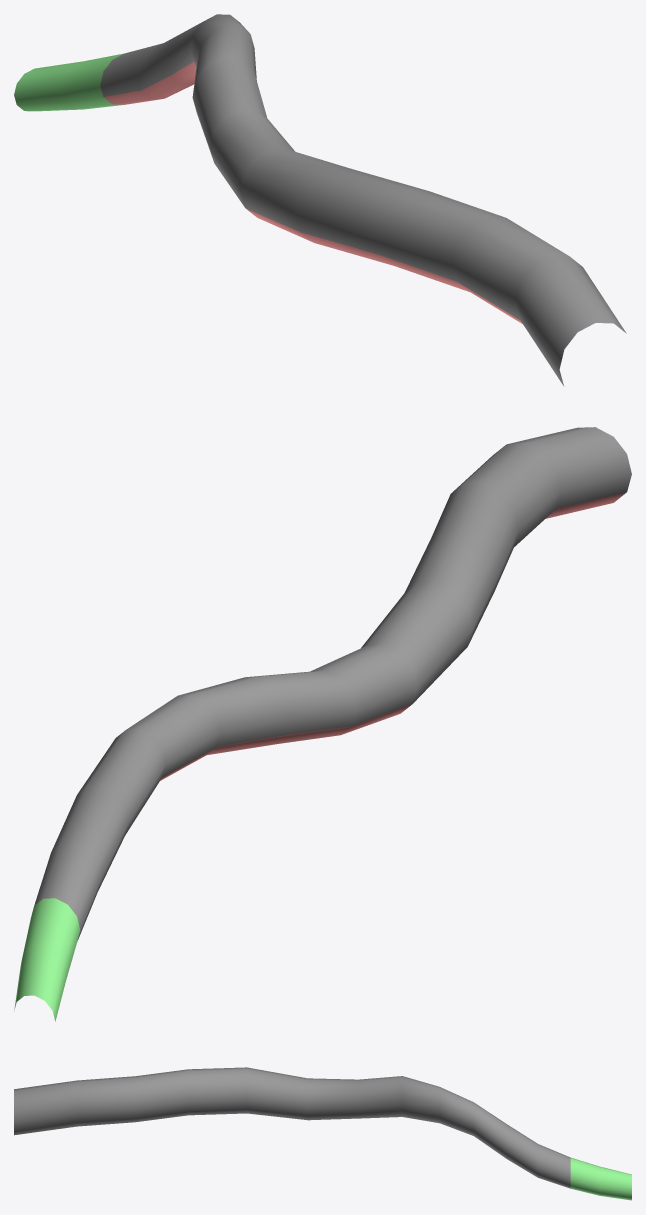
3 views of the same model, one above another, from view 1: azimuth 30°, elevation 25°; view 2: azimuth 150°, elevation 25°; view 3: azimuth 270°, elevation 25° (orthographic). The views are drawn at different scales.
Parts seen in each view (by area): view 1: root_08; view 2: root_08; view 3: root_08.
Boxes of the visible parts, x1,y1,x2,y2 form: root_08: [14, 14, 626, 386]; root_08: [14, 427, 631, 1021]; root_08: [14, 1067, 631, 1200].
Size of the model in its own units: 12.64 by 16.6 by 75.88.
